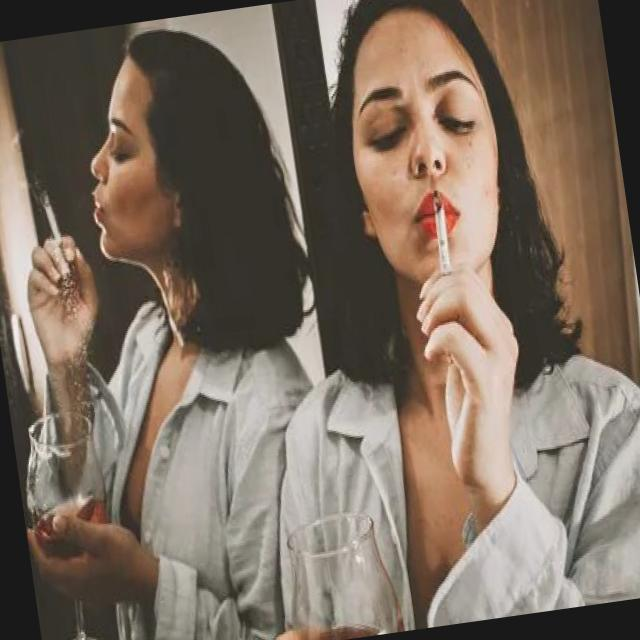cigarette: (427, 187, 459, 285), (34, 181, 68, 250)
